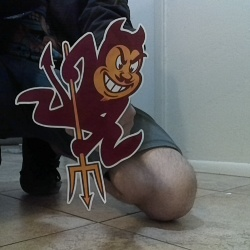sparky: (14, 16, 147, 211)
